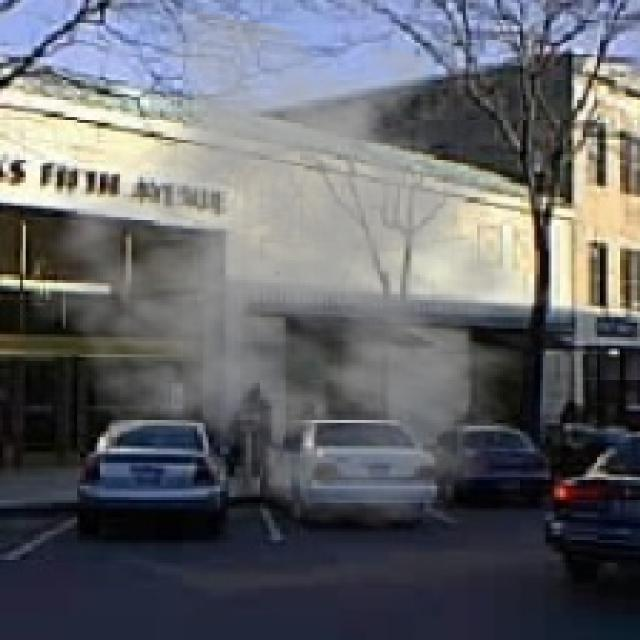Smoke: (29, 6, 578, 532)
